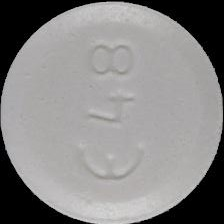60429-124: (0, 0, 224, 224)
